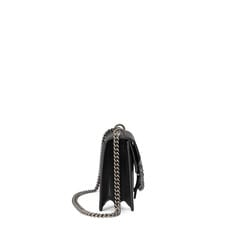Gucci: (87, 112, 150, 217)
